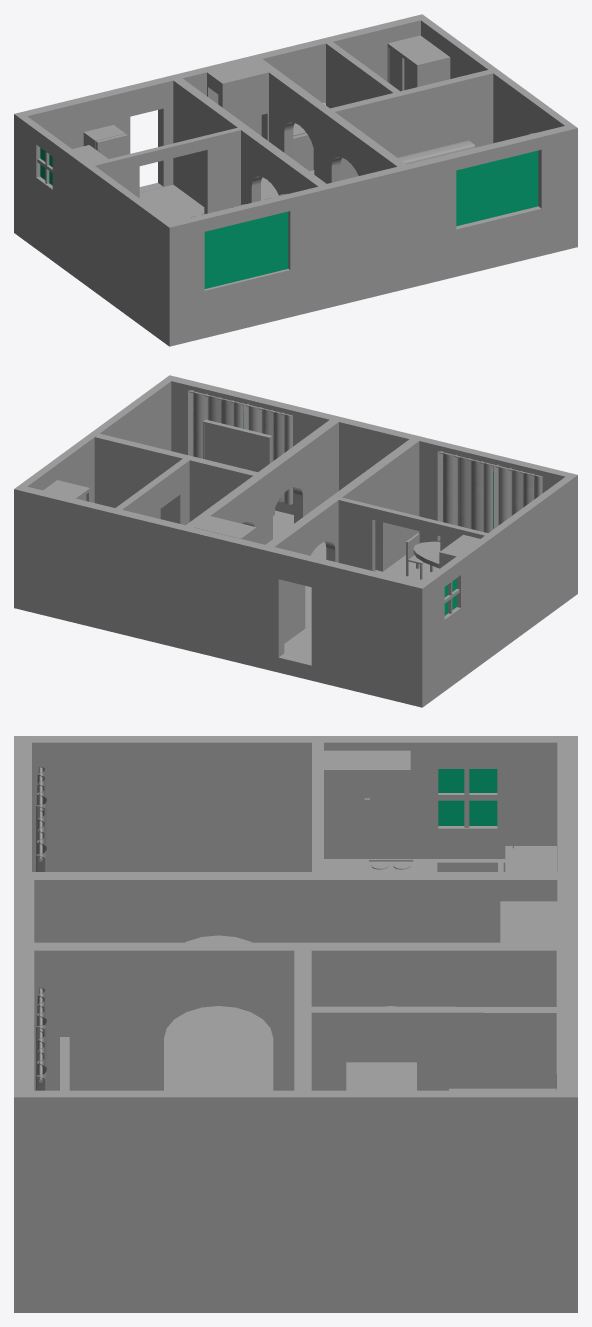
File: House_Layout_07.fbx
The picture shows the model from 3 angles, top to bottom: view 1: azimuth 30°, elevation 25°; view 2: azimuth 150°, elevation 25°; view 3: azimuth 270°, elevation 25°; orthographic projection. The views are drawn at different scales.
Parts seen in each view (by area): view 1: loftedSurface6, pCube25, pCube24, pCube22, pCube6, pCube14, pCylinder13, pCube26; view 2: loftedSurface6, nurbsToPoly1, pCube29, nurbsToPoly4, nurbsToPoly2, nurbsToPoly3, pCube35, pCube22, pCube6, pCube12; view 3: loftedSurface6, pCube12, pCylinder23, pCube22, pCube14.
Boxes of the visible parts, x1,y1,x2,y2 form: loftedSurface6: (14,14,577,346); pCube25: (204,211,288,288); pCube24: (456,150,538,226); pCube22: (207,60,269,141); pCube6: (387,35,450,91); pCube14: (83,125,127,158); pCylinder13: (293,123,313,170); pCube26: (397,140,475,164); loftedSurface6: (14,375,577,707); nurbsToPoly1: (437,451,493,540); pCube29: (203,419,272,471); nurbsToPoly4: (188,390,243,458); nurbsToPoly2: (494,464,542,528); nurbsToPoly3: (244,403,292,504); pCube35: (406,533,440,579); pCube22: (194,516,256,542); pCube6: (43,480,89,501); pCube12: (439,534,479,568); loftedSurface6: (14,736,577,1312); pCube12: (324,750,410,834); pCylinder23: (324,859,505,942); pCube22: (500,901,557,942); pCube14: (503,846,556,871).
Size of the model in its own units: 28.92 by 8.06 by 19.09.
